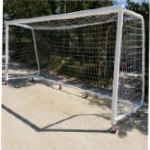goals: (4, 4, 146, 122)
